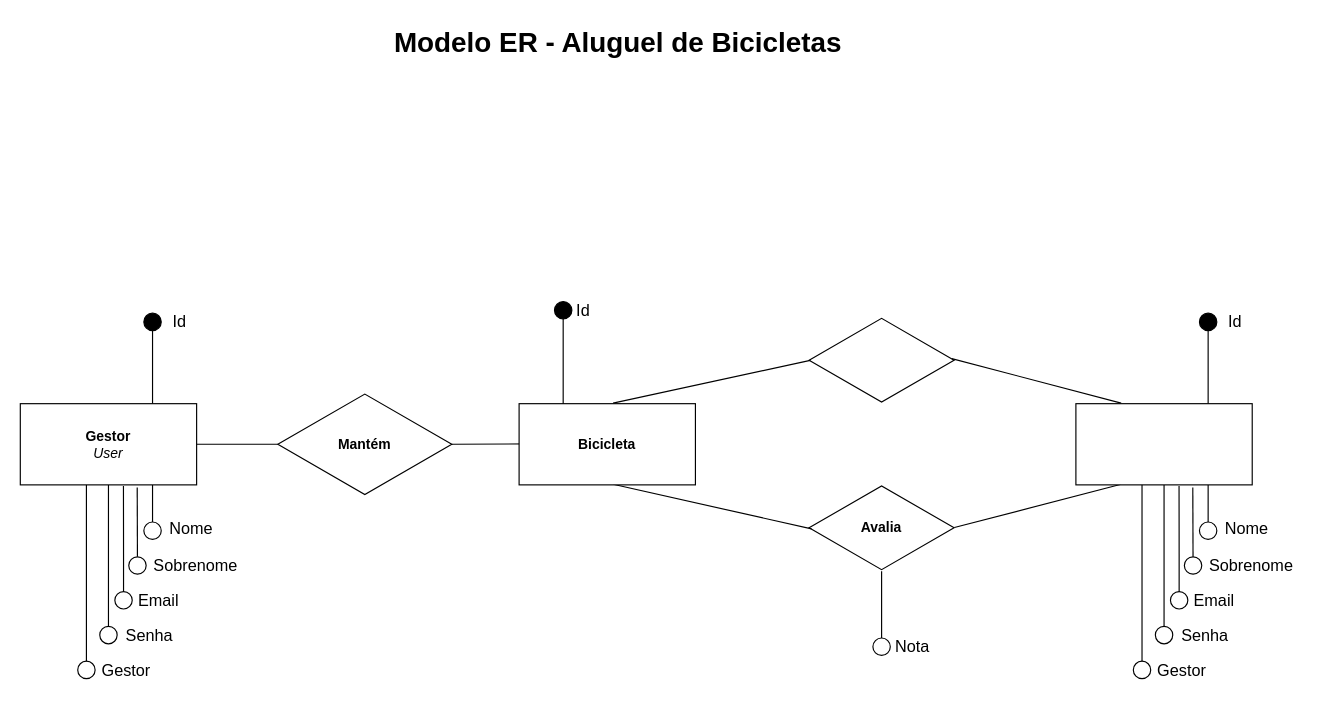
Some shapes in this 1325 by 710 pixel diagram are drawn without their labels. Each missing label, with the centre of its shape:
"Locatário User" goes at (x=1163, y=444).
"Reserva" goes at (x=881, y=360).
